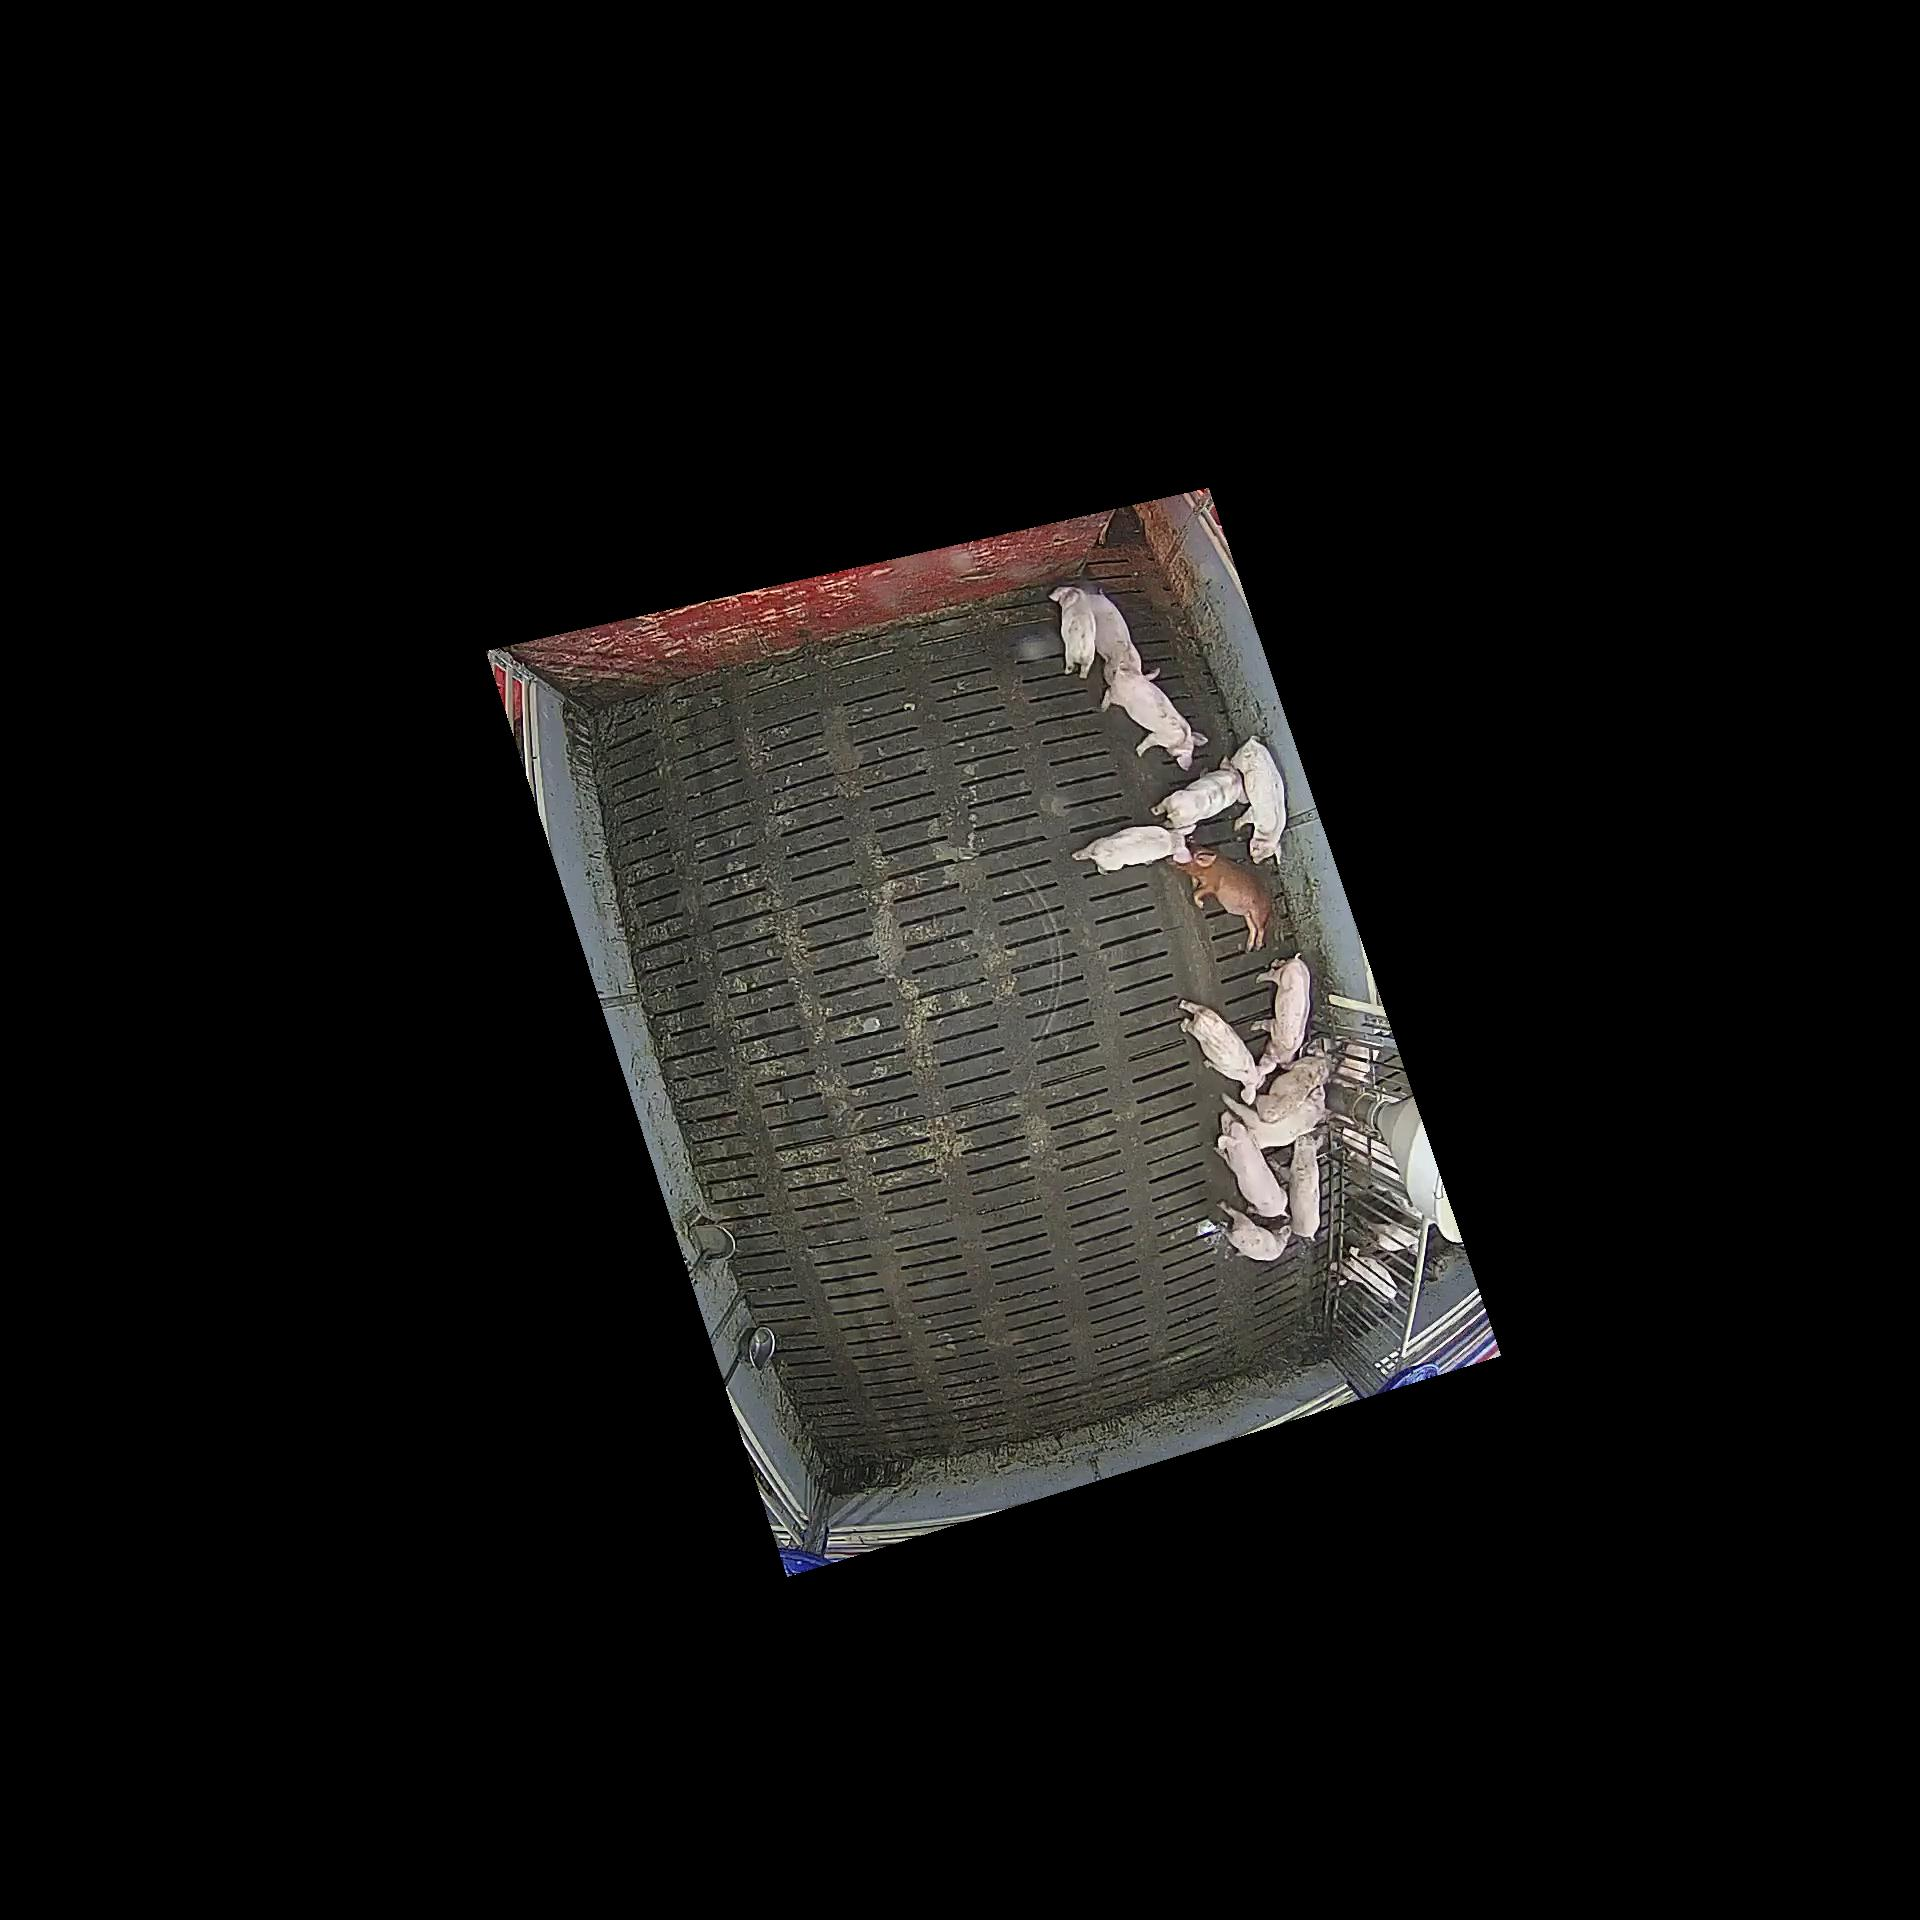pig: (1173, 835, 1271, 953), (1101, 666, 1208, 770), (1178, 999, 1276, 1106), (1211, 1111, 1289, 1218), (1085, 587, 1160, 686), (1222, 1085, 1333, 1150), (1254, 1039, 1340, 1122), (1150, 756, 1248, 828), (1231, 735, 1285, 865), (1250, 953, 1310, 1064), (1073, 825, 1196, 876), (1268, 1136, 1324, 1241), (1215, 1201, 1292, 1261), (1050, 587, 1097, 679)
